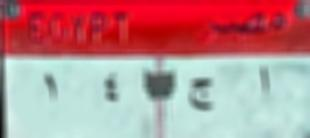1: (38, 70, 66, 104)
4: (98, 70, 125, 107)
alif: (250, 61, 274, 105)
jeem: (185, 70, 219, 116)
